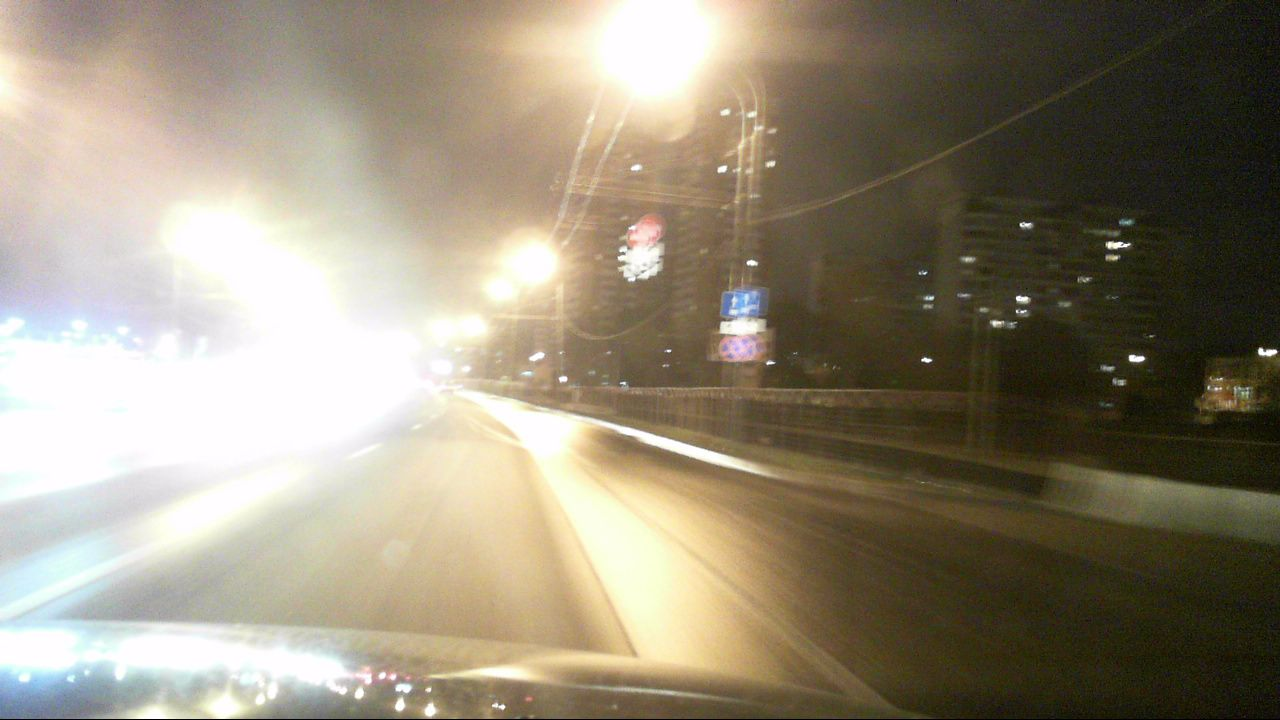No Parking: (718, 337, 746, 362)
